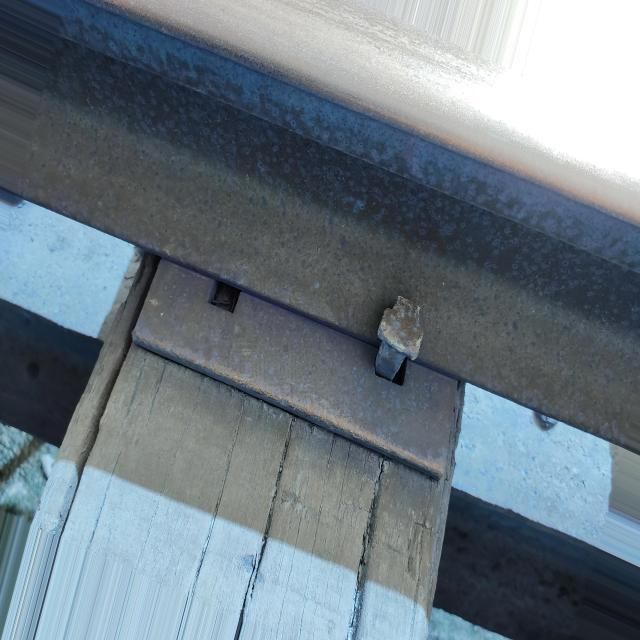Missing Dogscrew: (208, 280, 241, 313)
